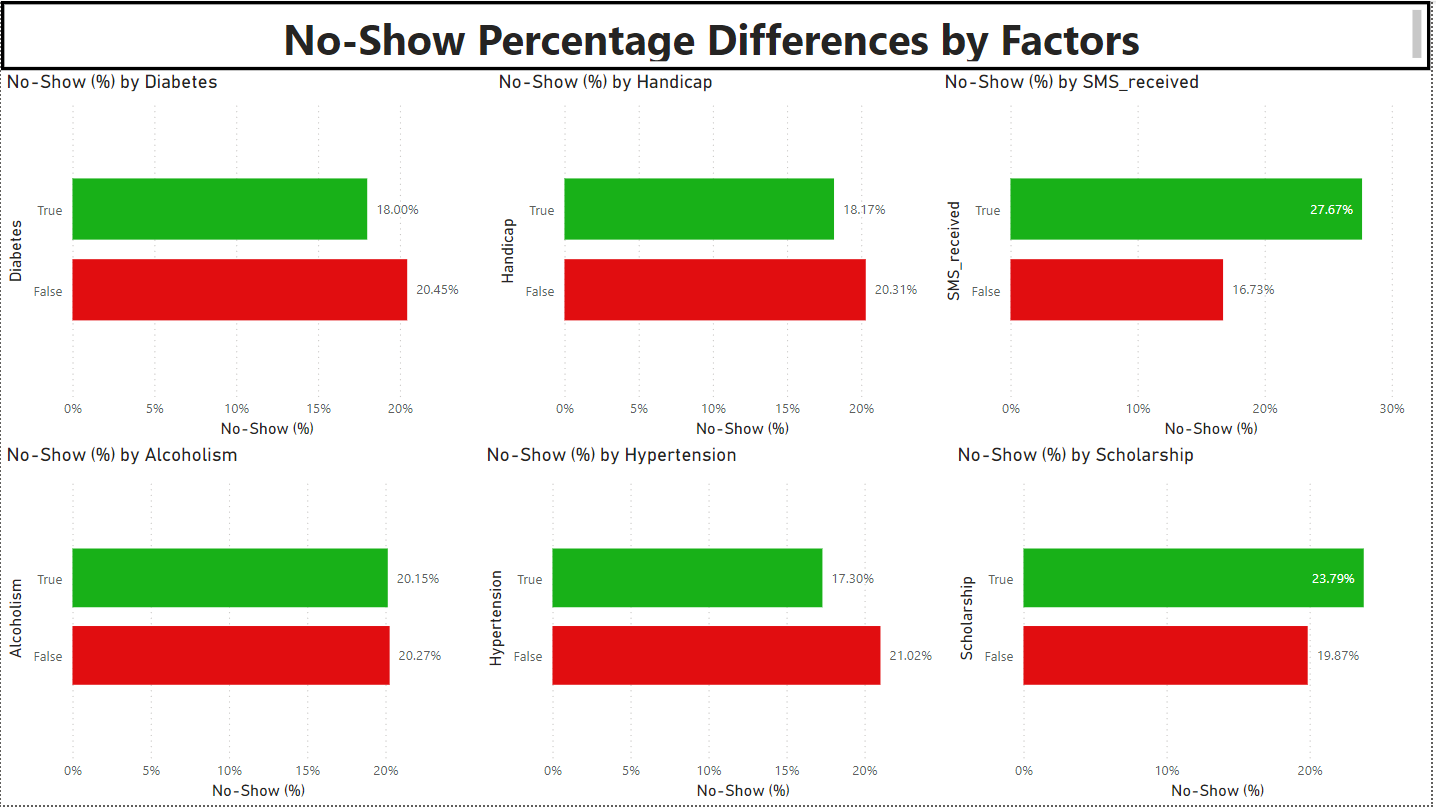

The page's visual inventory and layout, read from the dashboard file:
{"tool":"powerbi","page":{"name":"No-Show % by Factors","canvas":[1280,720],"ordinal":1},"visuals":[{"type":"barChart","fields":{"Category":["healthcare_noshows.Alcoholism"],"Y":["healthcare_noshows.% No Show"]},"box":[0,396,413.8,323.9],"z":2},{"type":"barChart","fields":{"Category":["healthcare_noshows.Diabetes"],"Y":["healthcare_noshows.% No Show"]},"box":[0,61.6,429.5,334.4],"z":3},{"type":"barChart","fields":{"Category":["healthcare_noshows.Handicap"],"Y":["healthcare_noshows.% No Show"]},"box":[440.9,61.6,399.2,334.4],"z":4},{"type":"barChart","fields":{"Category":["healthcare_noshows.Hypertension"],"Y":["healthcare_noshows.% No Show"]},"box":[429.5,396,422.1,323.9],"z":5},{"type":"barChart","fields":{"Category":["healthcare_noshows.Scholarship"],"Y":["healthcare_noshows.% No Show"]},"box":[851.6,396,428.4,323.9],"z":6},{"type":"barChart","fields":{"Category":["healthcare_noshows.SMS_received"],"Y":["healthcare_noshows.% No Show"]},"box":[840.1,61.6,439.9,334.4],"z":7},{"type":"textbox","box":[0,0,1280,61.6],"z":8}]}

Visuals, with their boxes in screenshot pixels (x1, y1, x2, y2), scaled from the page's 1280x720 canvas onto the 1436x811 screenshot:
barChart - healthcare_noshows.Alcoholism x healthcare_noshows.% No Show: pyautogui.locateOnScreen(0, 446, 464, 810)
barChart - healthcare_noshows.Diabetes x healthcare_noshows.% No Show: pyautogui.locateOnScreen(0, 69, 482, 446)
barChart - healthcare_noshows.Handicap x healthcare_noshows.% No Show: pyautogui.locateOnScreen(495, 69, 942, 446)
barChart - healthcare_noshows.Hypertension x healthcare_noshows.% No Show: pyautogui.locateOnScreen(482, 446, 955, 810)
barChart - healthcare_noshows.Scholarship x healthcare_noshows.% No Show: pyautogui.locateOnScreen(955, 446, 1435, 810)
barChart - healthcare_noshows.SMS_received x healthcare_noshows.% No Show: pyautogui.locateOnScreen(942, 69, 1435, 446)
textbox: pyautogui.locateOnScreen(0, 0, 1435, 69)
